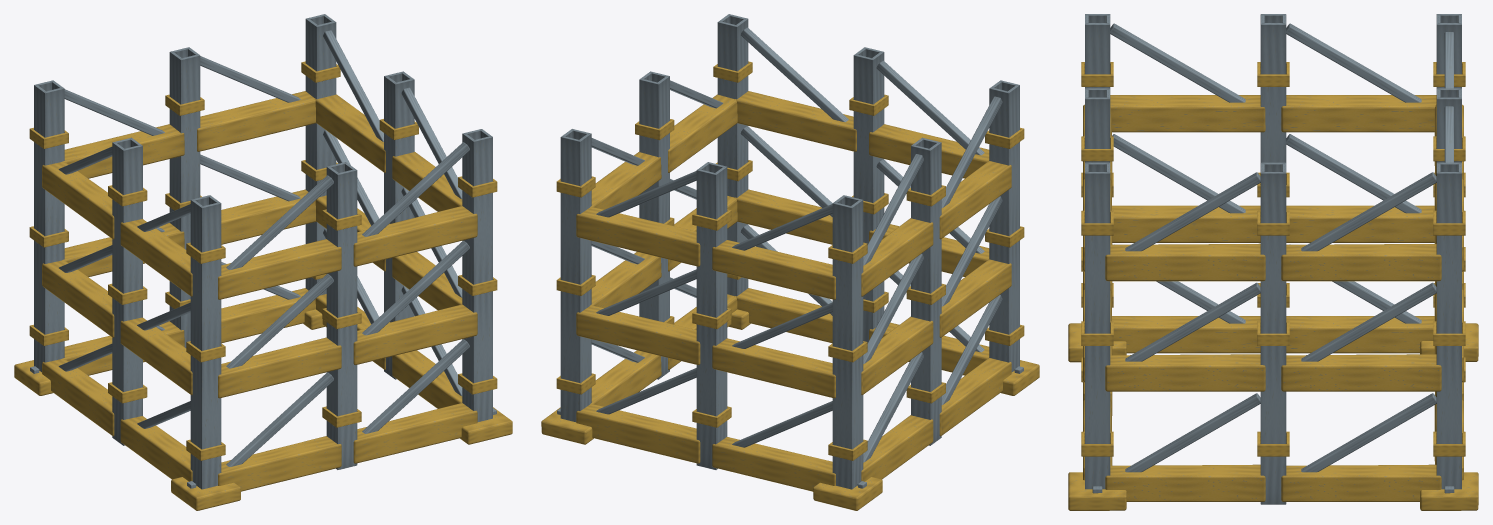
The picture shows the model from 3 angles, left to right: view 1: azimuth 30°, elevation 25°; view 2: azimuth 150°, elevation 25°; view 3: azimuth 270°, elevation 25°; orthographic projection. The views are drawn at different scales.
Visible parts, largest first — view 1: Tier 0 side 0 post 0, Tier 0 side 0 post 1, Tier 0 side 1 post 0, Tier 0 side 3 post 1, Tier 0 side 3 post 0, Tier 0 side 2 post 1, Tier 0 bay 0-1-1 service deck, Tier 0 bay 0-2-1 service deck, Tier 0 bay 0-1-0 service deck, Tier 0 bay 0-2-0 service deck, Tier 0 bay 2-2-0 service deck, Tier 0 bay 0-0-1 service deck (+36 smaller); view 2: Tier 0 side 3 post 0, Tier 0 side 2 post 0, Tier 0 side 2 post 1, Tier 0 side 3 post 1, Tier 0 side 0 post 0, Tier 0 side 0 post 1, Tier 0 side 1 post 1, Tier 0 side 1 post 0, Tier 0 bay 2-1-0 service deck, Tier 0 bay 2-2-0 service deck, Tier 0 bay 2-1-1 service deck, Tier 0 bay 2-2-1 service deck (+38 smaller); view 3: Tier 0 side 1 post 1, Tier 0 side 1 post 0, Tier 0 side 2 post 0, Tier 0 bay 1-2-1 service deck, Tier 0 bay 1-2-0 service deck, Tier 0 bay 1-1-1 service deck, Tier 0 bay 1-1-0 service deck, Tier 0 bay 3-2-1 service deck, Tier 0 bay 3-2-0 service deck, Tier 0 bay 1-0-0 service deck, Tier 0 bay 1-0-1 service deck, Tier 0 bay 3-1-0 service deck (+38 smaller).
Boxes of the visible parts, left/top/right/bottom form: Tier 0 side 0 post 0: left=190, top=195, right=221, bottom=489; Tier 0 side 0 post 1: left=326, top=162, right=357, bottom=469; Tier 0 side 1 post 0: left=462, top=129, right=492, bottom=421; Tier 0 side 3 post 1: left=112, top=137, right=142, bottom=445; Tier 0 side 3 post 0: left=34, top=80, right=64, bottom=372; Tier 0 side 2 post 1: left=169, top=47, right=200, bottom=347; Tier 0 bay 0-1-1 service deck: left=353, top=304, right=477, bottom=365; Tier 0 bay 0-2-1 service deck: left=353, top=206, right=477, bottom=266; Tier 0 bay 0-1-0 service deck: left=218, top=337, right=341, bottom=398; Tier 0 bay 0-2-0 service deck: left=218, top=239, right=341, bottom=299; Tier 0 bay 2-2-0 service deck: left=197, top=91, right=316, bottom=151; Tier 0 bay 0-0-1 service deck: left=353, top=403, right=477, bottom=463; Tier 0 side 3 post 0: left=832, top=195, right=863, bottom=489; Tier 0 side 2 post 0: left=560, top=129, right=591, bottom=421; Tier 0 side 2 post 1: left=696, top=162, right=727, bottom=469; Tier 0 side 3 post 1: left=911, top=137, right=941, bottom=445; Tier 0 side 0 post 0: left=989, top=80, right=1019, bottom=372; Tier 0 side 0 post 1: left=853, top=47, right=884, bottom=342; Tier 0 side 1 post 1: left=639, top=71, right=669, bottom=379; Tier 0 side 1 post 0: left=717, top=14, right=748, bottom=296; Tier 0 bay 2-1-0 service deck: left=576, top=305, right=700, bottom=365; Tier 0 bay 2-2-0 service deck: left=576, top=207, right=700, bottom=266; Tier 0 bay 2-1-1 service deck: left=712, top=338, right=835, bottom=398; Tier 0 bay 2-2-1 service deck: left=712, top=240, right=835, bottom=299; Tier 0 side 1 post 1: left=1260, top=162, right=1286, bottom=504; Tier 0 side 1 post 0: left=1085, top=162, right=1110, bottom=489; Tier 0 side 2 post 0: left=1436, top=162, right=1461, bottom=489; Tier 0 bay 1-2-1 service deck: left=1281, top=243, right=1441, bottom=281; Tier 0 bay 1-2-0 service deck: left=1105, top=243, right=1265, bottom=281; Tier 0 bay 1-1-1 service deck: left=1281, top=354, right=1441, bottom=391; Tier 0 bay 1-1-0 service deck: left=1105, top=354, right=1265, bottom=391; Tier 0 bay 3-2-1 service deck: left=1110, top=95, right=1265, bottom=132; Tier 0 bay 3-2-0 service deck: left=1281, top=95, right=1436, bottom=132; Tier 0 bay 1-0-0 service deck: left=1105, top=464, right=1265, bottom=501; Tier 0 bay 1-0-1 service deck: left=1281, top=464, right=1441, bottom=501; Tier 0 bay 3-1-0 service deck: left=1286, top=205, right=1434, bottom=242.
Size of the model in its own units: 1.05 by 0.9353 by 1.05.
2 materials, 2 textured.
